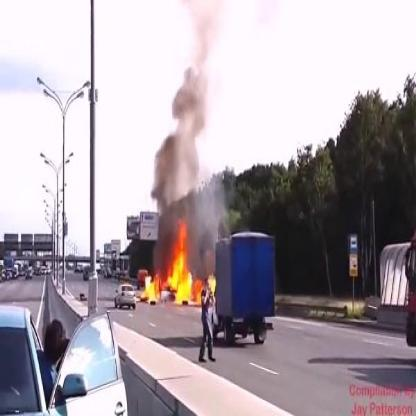fire: (140, 216, 218, 310)
